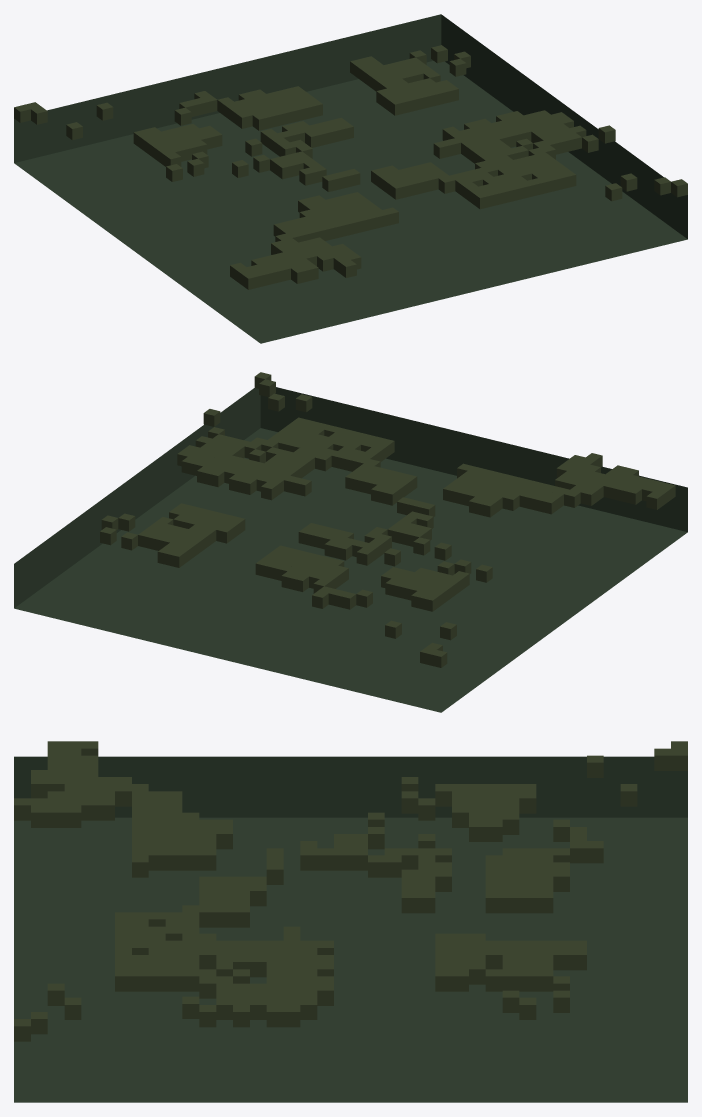
The model's file is meadow.glb.
The picture shows the model from 3 angles, top to bottom: view 1: azimuth 30°, elevation 25°; view 2: azimuth 150°, elevation 25°; view 3: azimuth 270°, elevation 25°; orthographic projection. The views are drawn at different scales.
Visible parts, largest first — view 1: Lot::DeadGrass; view 2: Lot::DeadGrass; view 3: Lot::DeadGrass.
Boxes of the visible parts, x1,y1,x2,y2 form: Lot::DeadGrass: (14, 14, 687, 343); Lot::DeadGrass: (14, 372, 687, 712); Lot::DeadGrass: (14, 741, 687, 1102).
Size of the model in its own units: 1 by 0.15 by 1.
